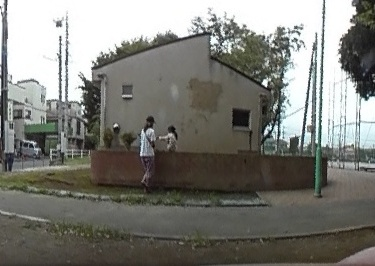person: (138, 113, 157, 187), (159, 123, 179, 151)
